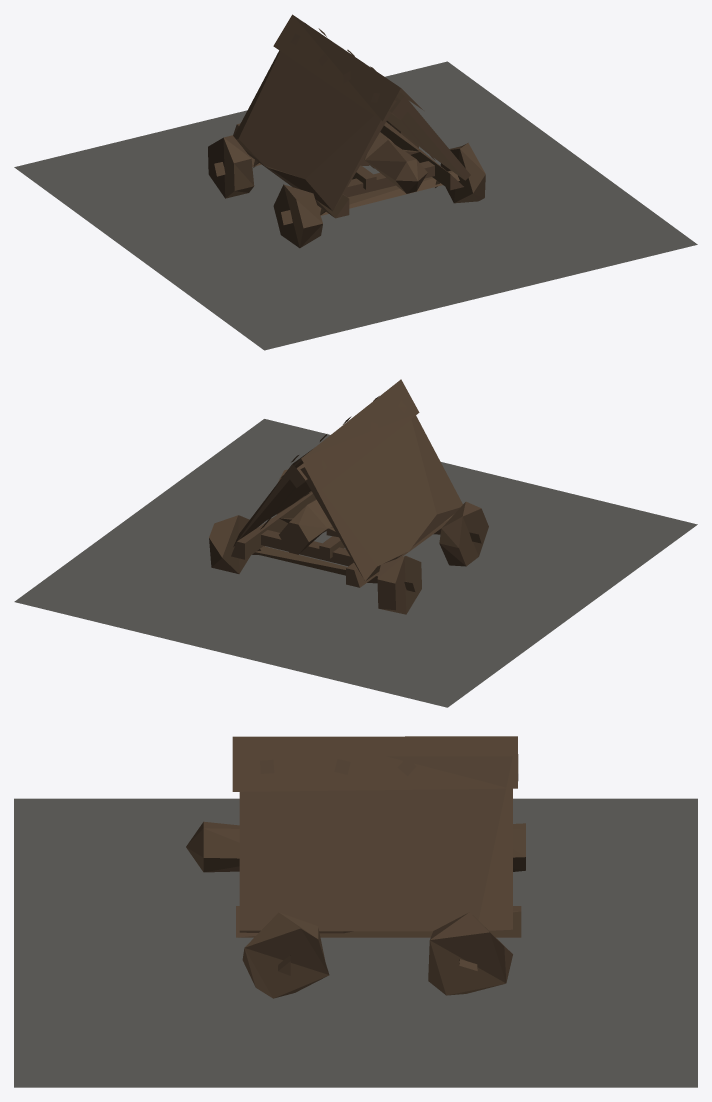
Rendered from battering-ram.lod2.glb.
3 views of the same model, one above another, from view 1: azimuth 30°, elevation 25°; view 2: azimuth 150°, elevation 25°; view 3: azimuth 270°, elevation 25° (orthographic). The views are drawn at different scales.
Parts seen in each view (by area): view 1: Battering_ram_Battering_ram_0; view 2: Battering_ram_Battering_ram_0; view 3: Battering_ram_Battering_ram_0.
Boxes of the visible parts, x1,y1,x2,y2 form: Battering_ram_Battering_ram_0: (14,14,697,350); Battering_ram_Battering_ram_0: (14,379,697,707); Battering_ram_Battering_ram_0: (14,736,697,1087).
Bounding box in the file's own units: 6.5 × 2.16 × 6.5.
